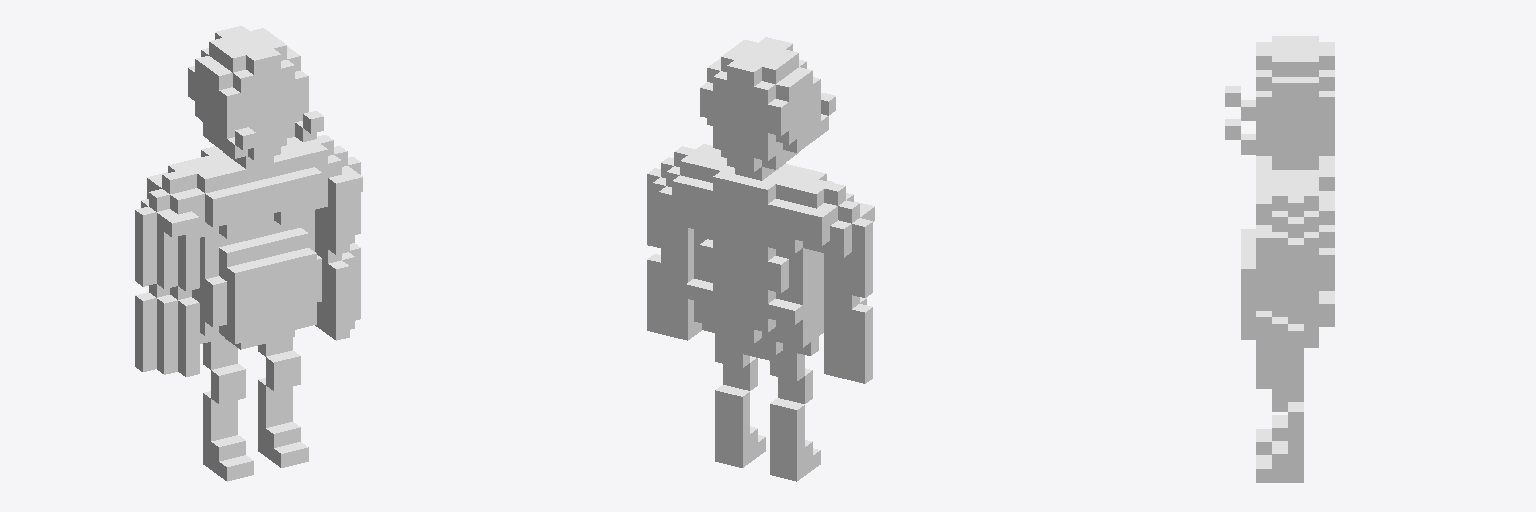
File: ork.obj
3 renders of one model, left to right at view 1: azimuth 30°, elevation 25°; view 2: azimuth 150°, elevation 25°; view 3: azimuth 270°, elevation 25°, orthographic.
Visible parts, largest first — view 1: object 1; view 2: object 1; view 3: object 1.
Boxes of the visible parts, x1=… form: object 1: x1=135, y1=26, x2=362, y2=481; object 1: x1=647, y1=37, x2=874, y2=481; object 1: x1=1225, y1=36, x2=1334, y2=482.
Size of the model in its own units: 1.6 by 2.9 by 0.7.